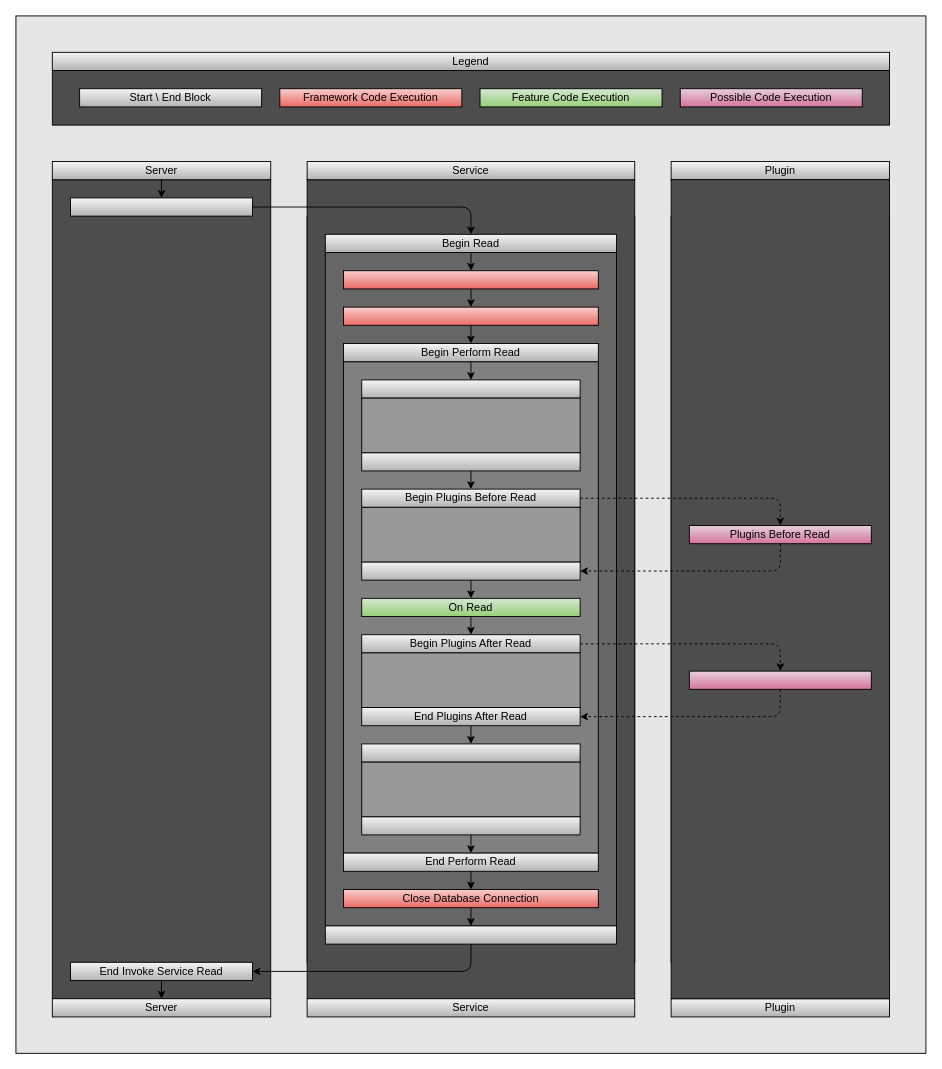
The diagram is 942 pixels wide and 1069 high, and some of its shapes have lost their labels. The centre of each missing label's shape, as x and y in pixels:
"Begin Internal After Read" goes at [470,752].
"Begin Internal Before Read" goes at [470,388].
"Begin Invoke Service Read" goes at [161,206].
"Create Data Response" goes at [470,279].
"End Internal After Read" goes at [470,825].
"End Internal Before Read" goes at [470,461].
"End Plugins Before Read" goes at [470,570].
"End Read" goes at [470,934].
"Open Database Connection" goes at [470,315].
"Plugins After Read" goes at [779,679].
